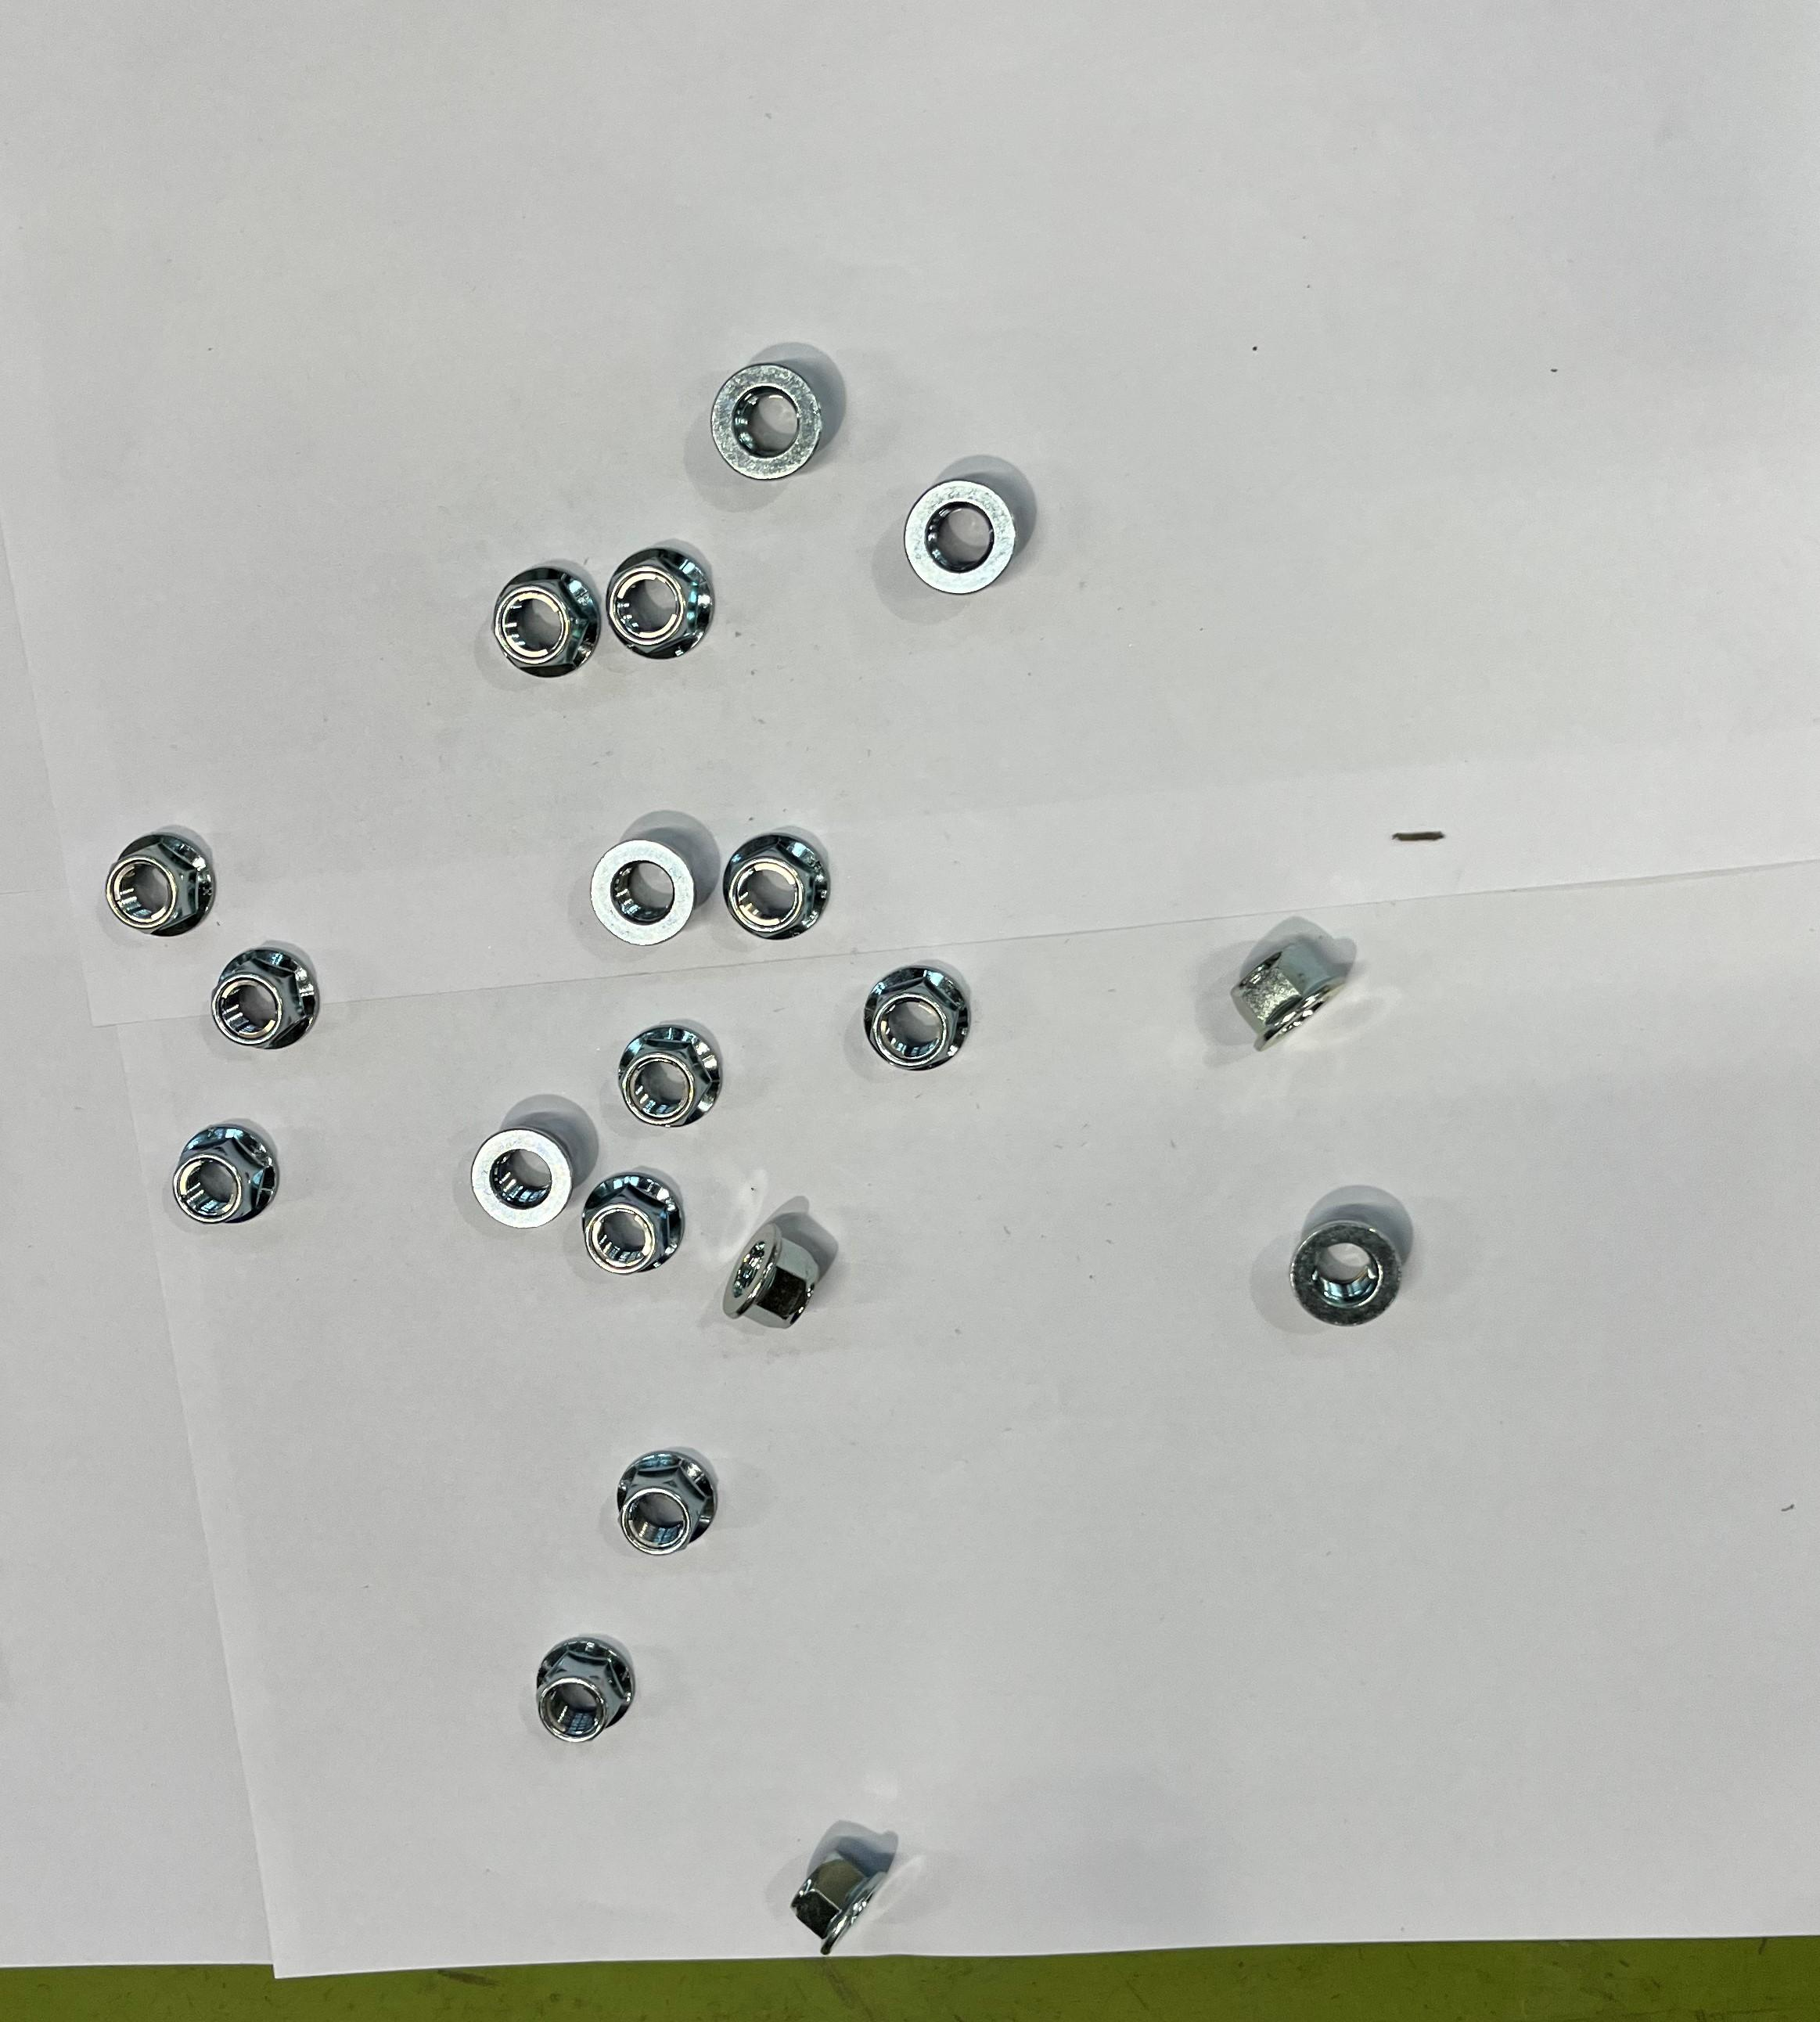Type B: (711, 358, 820, 485), (1237, 947, 1354, 1054), (905, 480, 1015, 592), (606, 550, 711, 662), (497, 567, 604, 676), (590, 838, 696, 947), (1295, 1219, 1400, 1326), (859, 970, 970, 1072), (724, 1223, 824, 1335), (538, 1637, 639, 1743), (473, 1121, 571, 1230), (620, 1448, 717, 1558), (724, 838, 827, 940), (587, 1170, 687, 1275), (622, 1026, 722, 1130), (796, 1855, 891, 1955)
